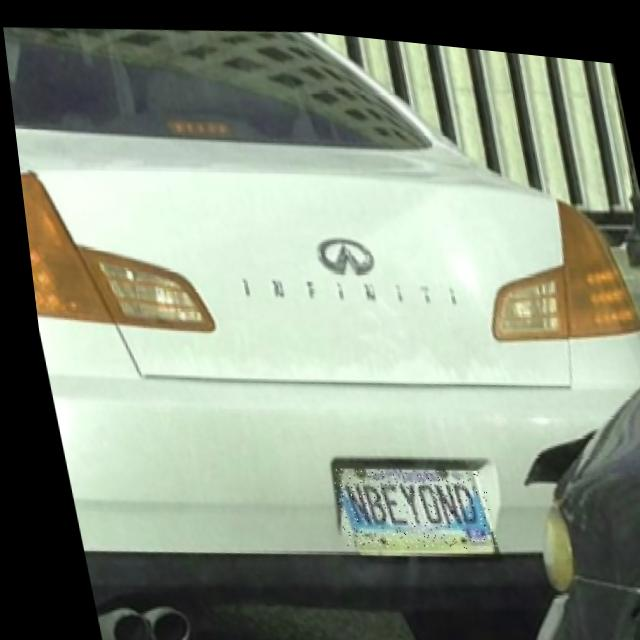license_plate: (318, 449, 487, 553)
